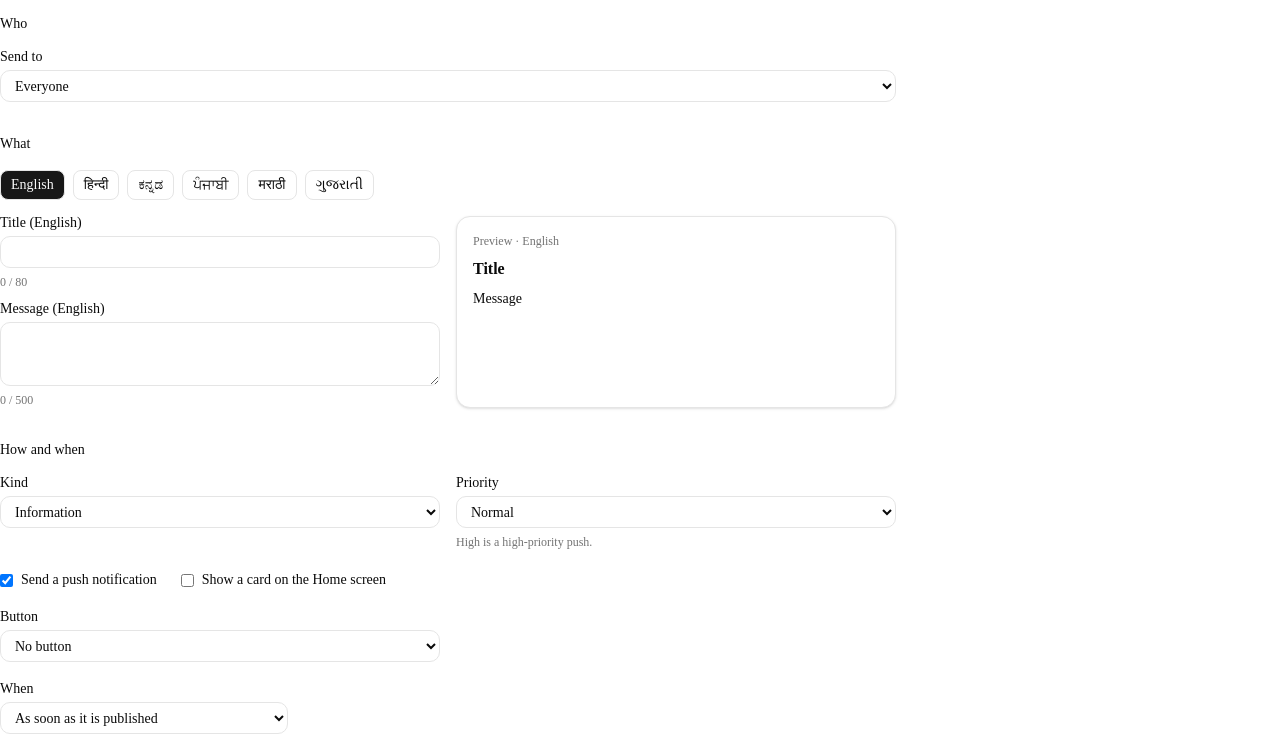
Test: publishing a new announcement › opens the form again if the confirmation is dismissed, and Publish again updates that draft instead of making another
Type "Get 10% extra" into the field labelled "Title (English)".
click(220, 252); type("Get 10% extra")  # box [0,236,440,268]
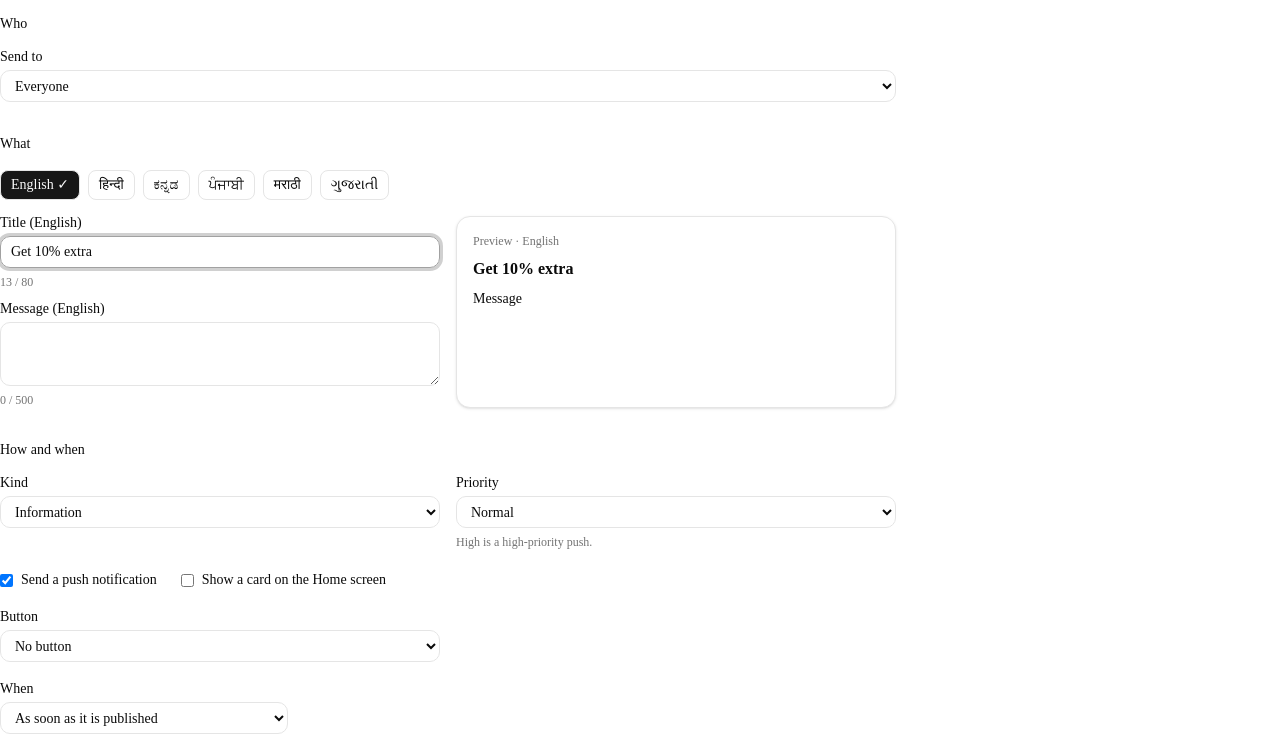
Type "Recharge this week." into the text box labelled "Message (English)".
click(220, 354); type("Recharge this week.")  # box [0,322,440,386]
(page scrolled)
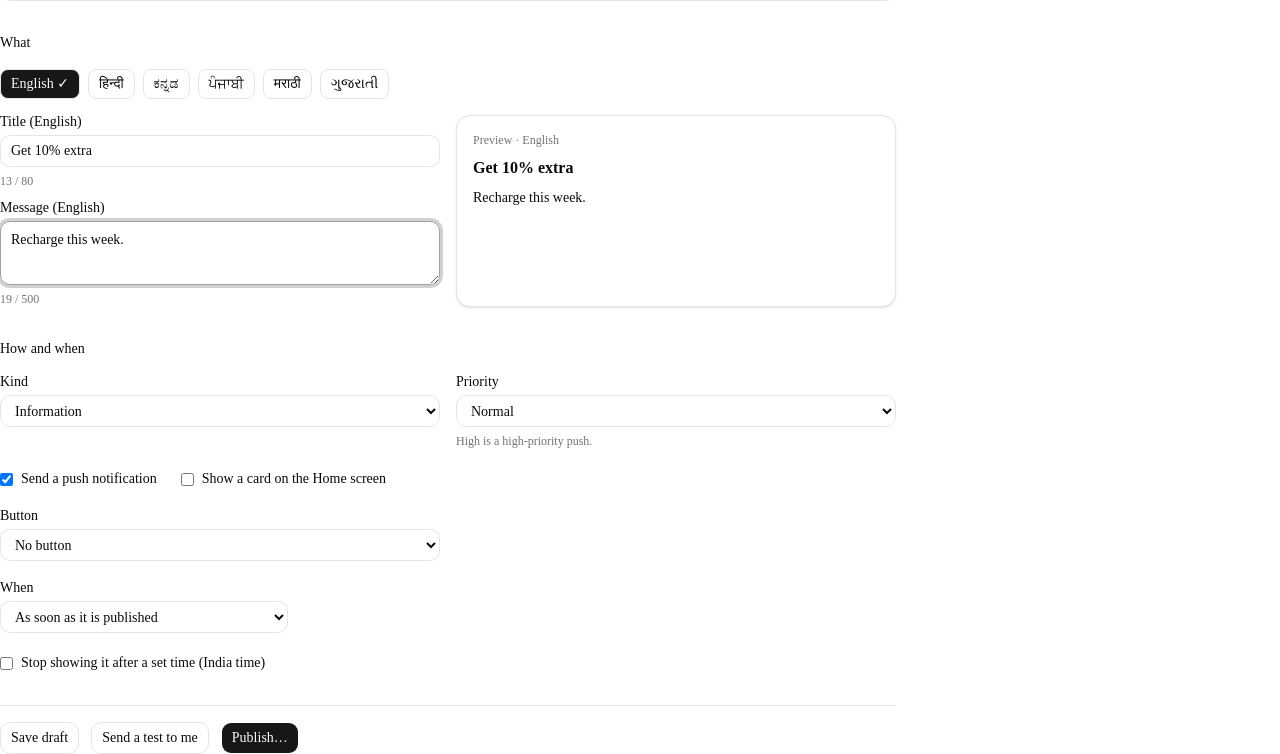
Click the button "Publish…".
click(260, 738)  # box [221,722,299,753]
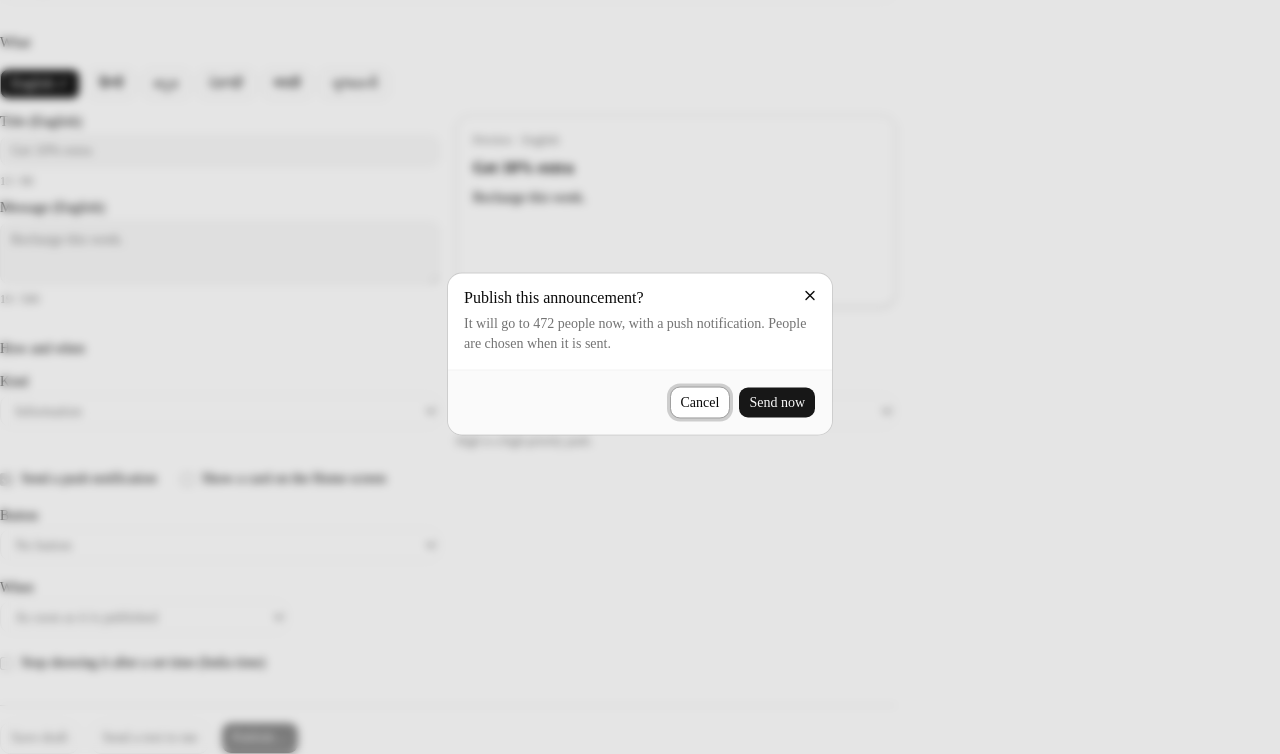
Now the text "472 people" is shown, box [464,316,806,350]
Click the button "Cancel".
click(700, 402)  # box [670,386,730,418]
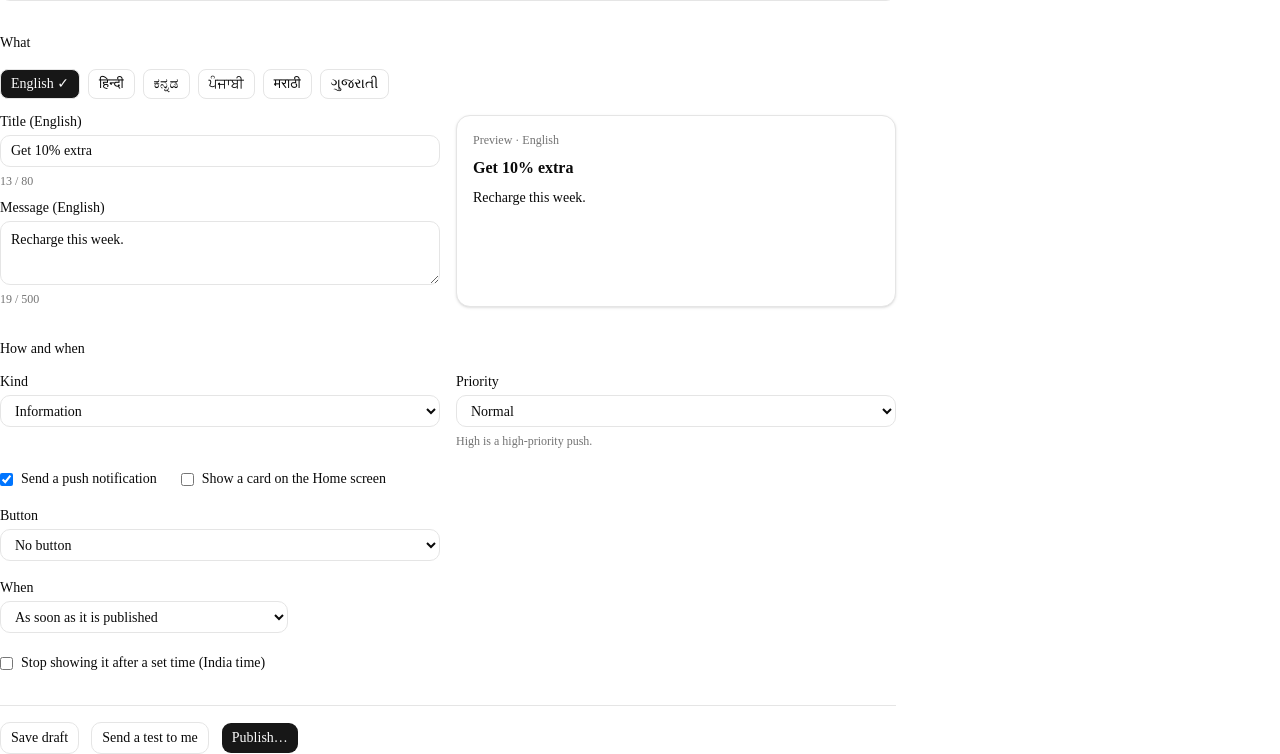
Now the field labelled "Title (English)" is enabled
Type "!" into the field labelled "Title (English)".
click(220, 151); type("!")  # box [0,135,440,167]
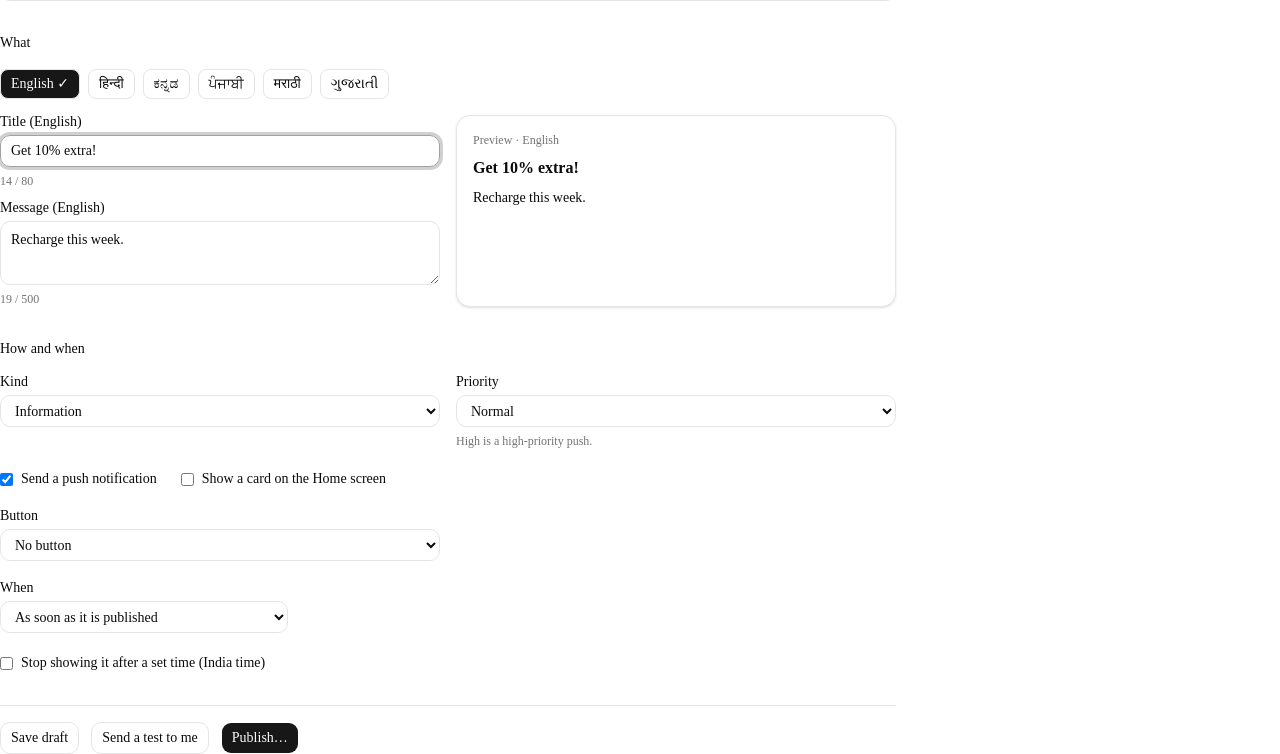
Click the button "Publish…".
click(260, 738)  # box [221,722,299,753]
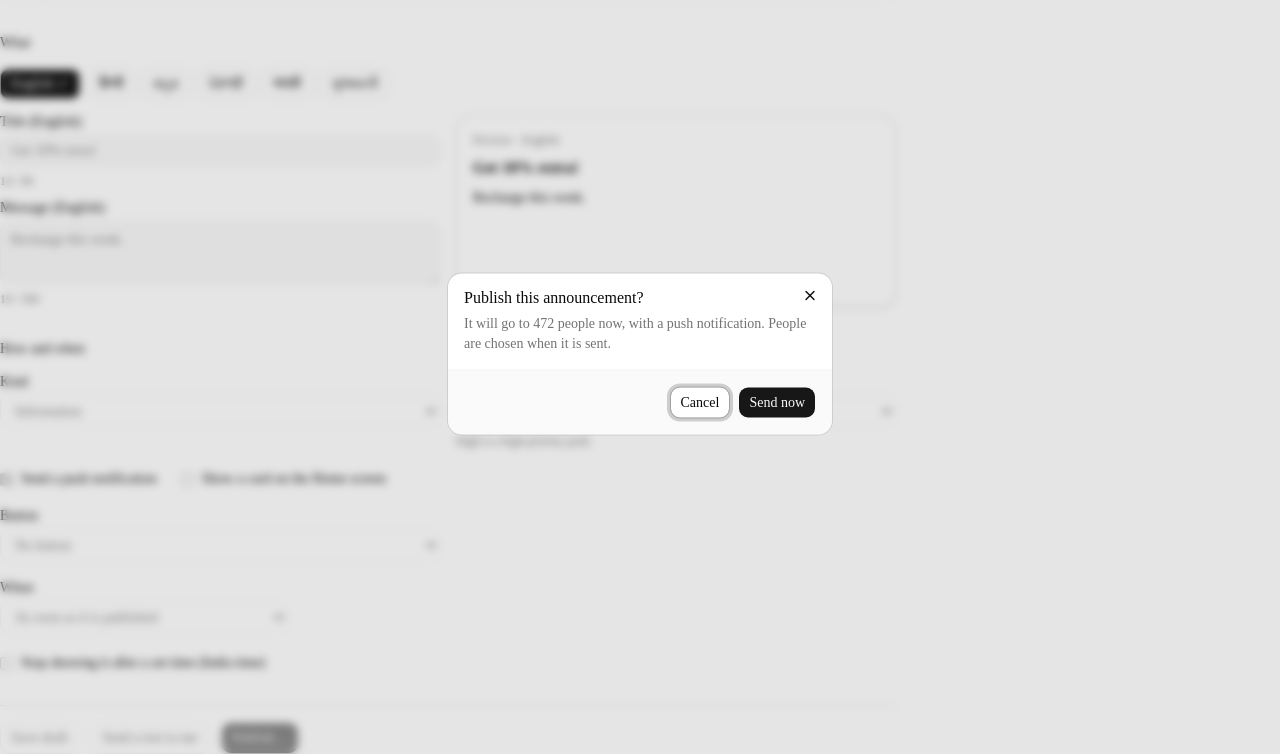
Now the text "472 people" is shown, box [464,316,806,350]
